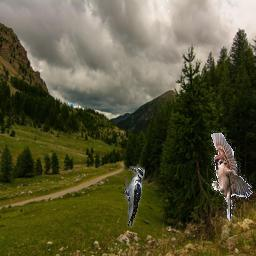Sparrow: (211, 132, 253, 223)
Woodpecker: (125, 166, 146, 228)
